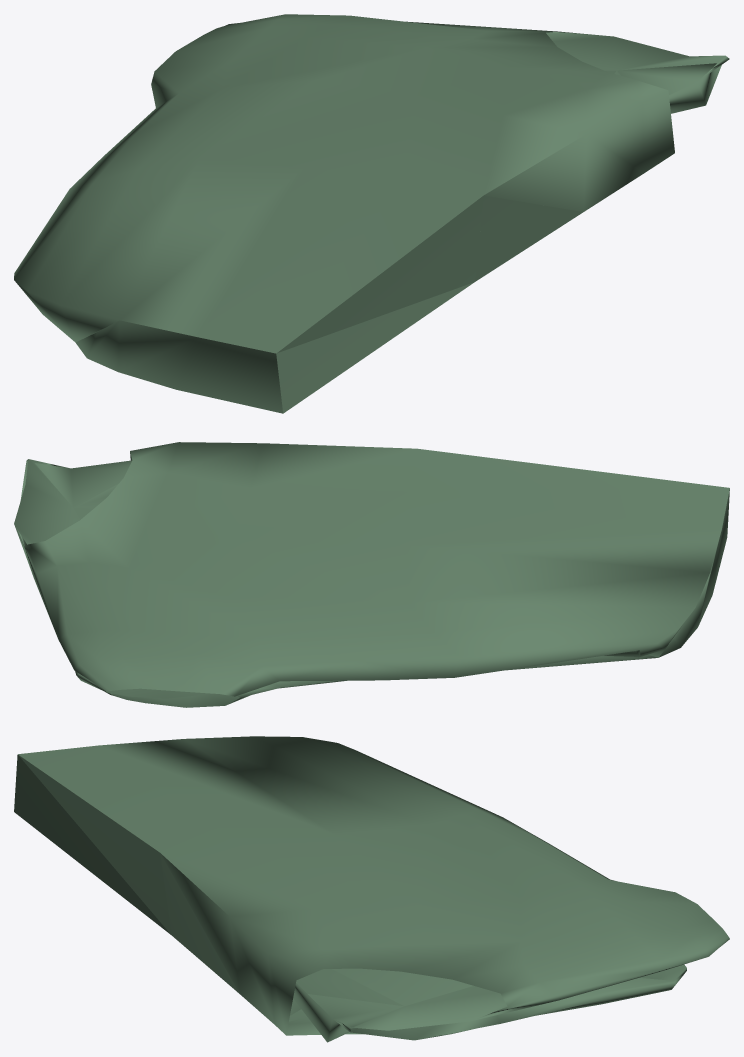
Rendered from sloph2.fbx.
The picture shows the model from 3 angles, top to bottom: view 1: azimuth 30°, elevation 25°; view 2: azimuth 150°, elevation 25°; view 3: azimuth 270°, elevation 25°; orthographic projection. The views are drawn at different scales.
Parts seen in each view (by area): view 1: Object_9.008; view 2: Object_9.008; view 3: Object_9.008.
Boxes of the visible parts, x1=… form: Object_9.008: x1=14, y1=14, x2=729, y2=413; Object_9.008: x1=14, y1=442, x2=729, y2=707; Object_9.008: x1=14, y1=736, x2=729, y2=1042.
Size of the model in its own units: 76 by 11.47 by 69.96.
